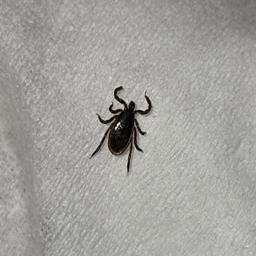Ixodes scapularis: (88, 85, 153, 175)
